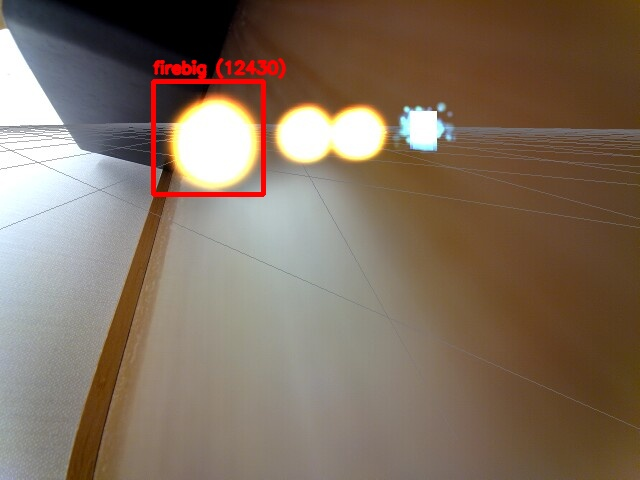firebig: (153, 81, 263, 194)
